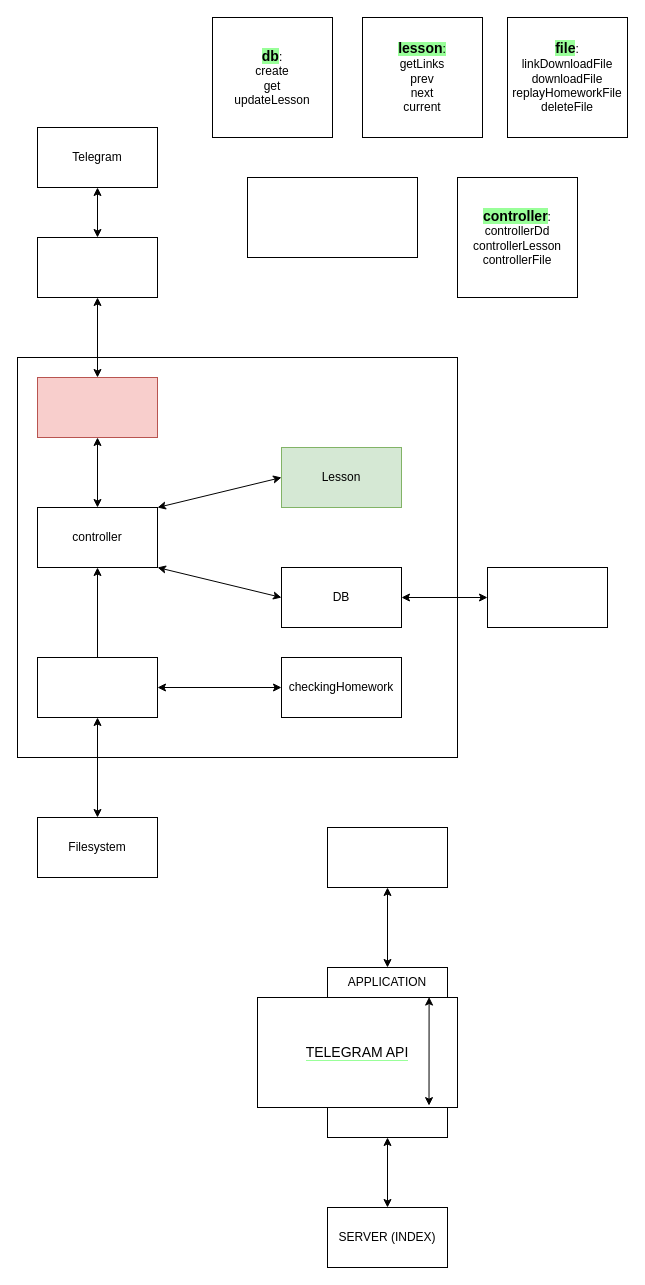
This 645x1285 diagram has some shape labels left out. The shapes that lost their labels are listed below. From the top down, each one's centre as x and y in pixels, then its label:
(332,217): checkingHomework :
(97,267): botAPI(Telegraf)
(97,407): index
(547,597): MongoDB
(97,687): File
(387,857): USER
(387,1122): BOT API
